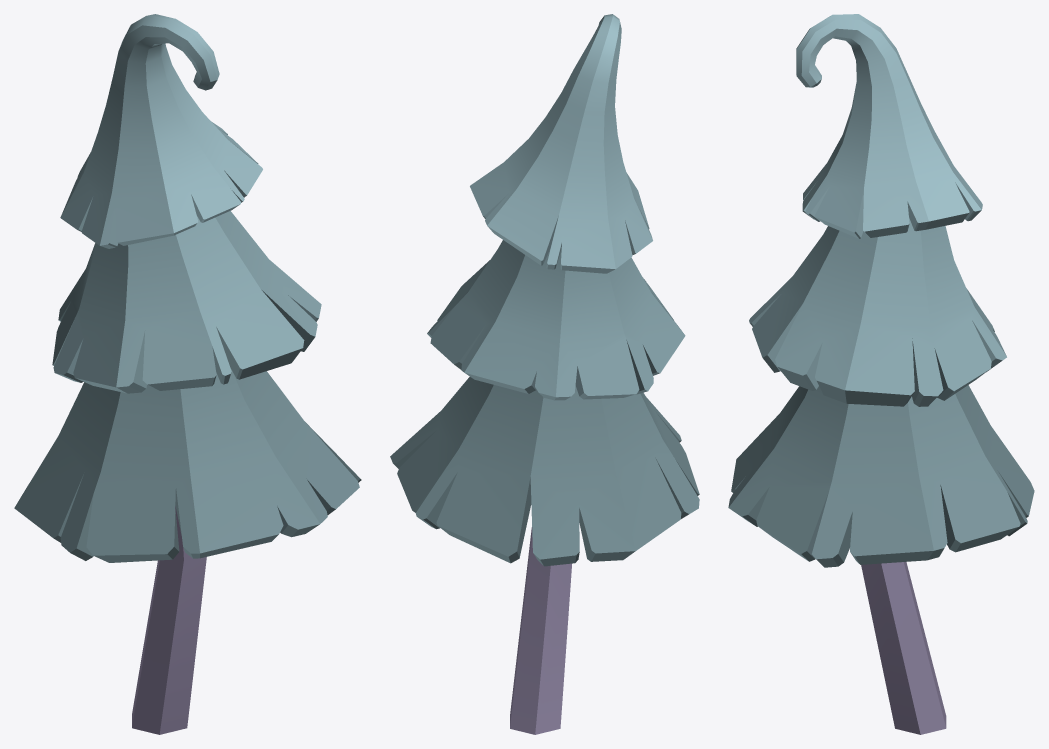
The model's file is Mystic_Tree_M_B3.fbx.
3 views of the same model, side by side, from view 1: azimuth 30°, elevation 25°; view 2: azimuth 150°, elevation 25°; view 3: azimuth 270°, elevation 25° (orthographic). The views are drawn at different scales.
Visible parts, largest first — view 1: Mystic_Tree_M_B3; view 2: Mystic_Tree_M_B3; view 3: Mystic_Tree_M_B3.
Boxes of the visible parts, bbox=[...] form: Mystic_Tree_M_B3: bbox=[14, 14, 361, 734]; Mystic_Tree_M_B3: bbox=[390, 14, 699, 734]; Mystic_Tree_M_B3: bbox=[728, 14, 1034, 734].
Size of the model in its own units: 382 by 954 by 383.
